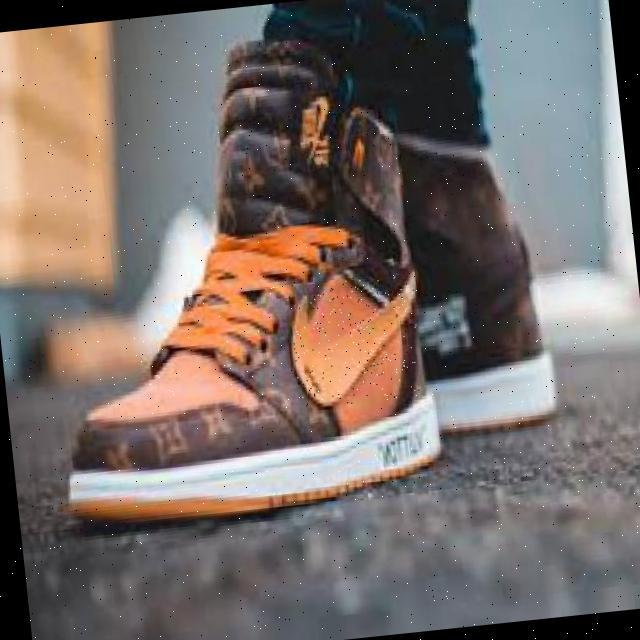Nike: (287, 271, 425, 409)
